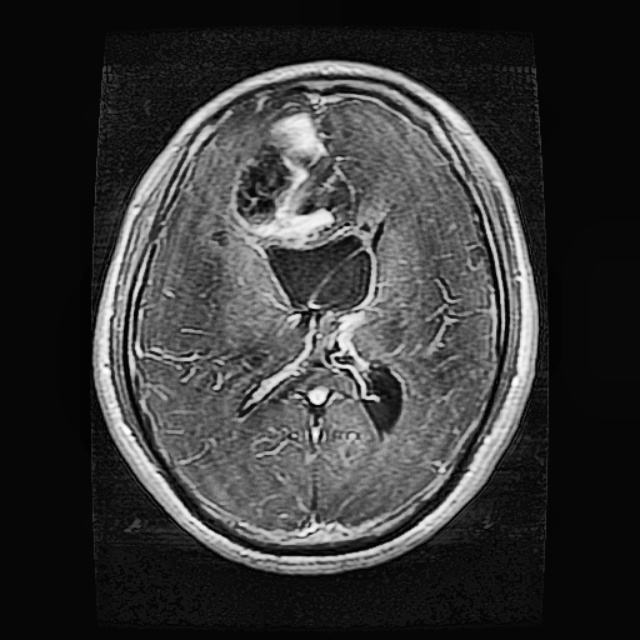Glioma: (269, 230, 382, 320)
